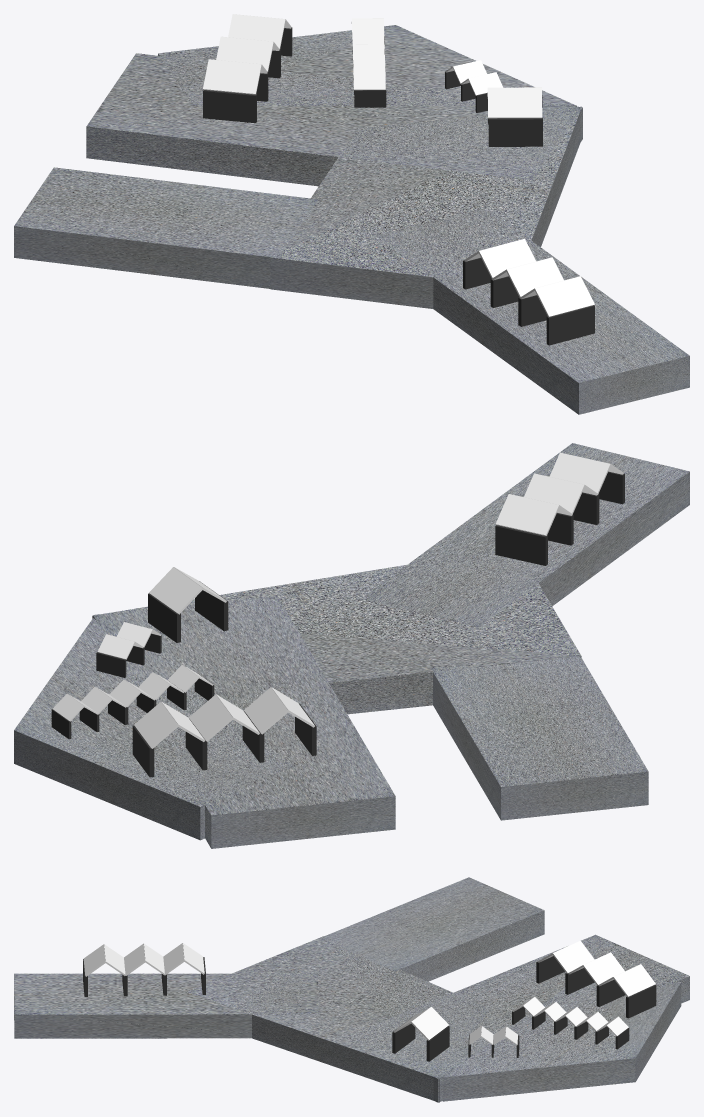
3 renders of one model, top to bottom at view 1: azimuth 30°, elevation 25°; view 2: azimuth 150°, elevation 25°; view 3: azimuth 270°, elevation 25°, orthographic. The views are drawn at different scales.
Visible parts, largest first — view 1: LINE, 13_6, 13_3, 13, 13_4, 15, 14, 13_5, 13_1, 14_2, 13_2; view 2: LINE, 13_4, 13_3, 13_5, 15, 13_6, 13, 14, 14_2, 15_2, 15_3, 14_1 (+3 smaller); view 3: LINE, 15, 13, 13_3, 14, 13_6, 13_4, 13_5, 15_2, 15_3, 15_1, 13_1 (+2 smaller).
Part boxes in pixels (x1,y1,x2,y2): LINE: (14, 25, 689, 414); 13_6: (519, 276, 594, 345); 13_3: (487, 87, 542, 146); 13: (203, 59, 267, 123); 13_4: (463, 238, 536, 307); 15: (228, 14, 292, 78); 14: (216, 36, 279, 101); 13_5: (490, 257, 563, 326); 13_1: (353, 72, 386, 107); 14_2: (445, 60, 486, 101); 13_2: (461, 72, 503, 112); LINE: (14, 443, 689, 848); 13_4: (495, 494, 573, 565); 13_3: (148, 567, 228, 642); 13_5: (524, 473, 598, 545); 15: (132, 701, 207, 777); 13_6: (549, 452, 624, 524); 13: (244, 687, 316, 761); 14: (189, 694, 264, 762); 14_2: (96, 634, 144, 677); 15_2: (79, 686, 127, 731); 15_3: (51, 694, 99, 739); 14_1: (138, 672, 186, 710); LINE: (14, 877, 689, 1102); 15: (596, 964, 656, 1018); 13: (536, 940, 594, 994); 13_3: (392, 1007, 449, 1061); 14: (565, 952, 624, 994); 13_6: (83, 944, 127, 996); 13_4: (161, 943, 205, 995); 13_5: (124, 943, 166, 996); 15_2: (575, 1012, 608, 1044); 15_3: (595, 1016, 629, 1049); 15_1: (554, 1007, 587, 1039); 13_1: (512, 997, 544, 1024).
Bounding box in the file's own units: 4479 × 616 × 6347.
3 materials, 1 textured.
